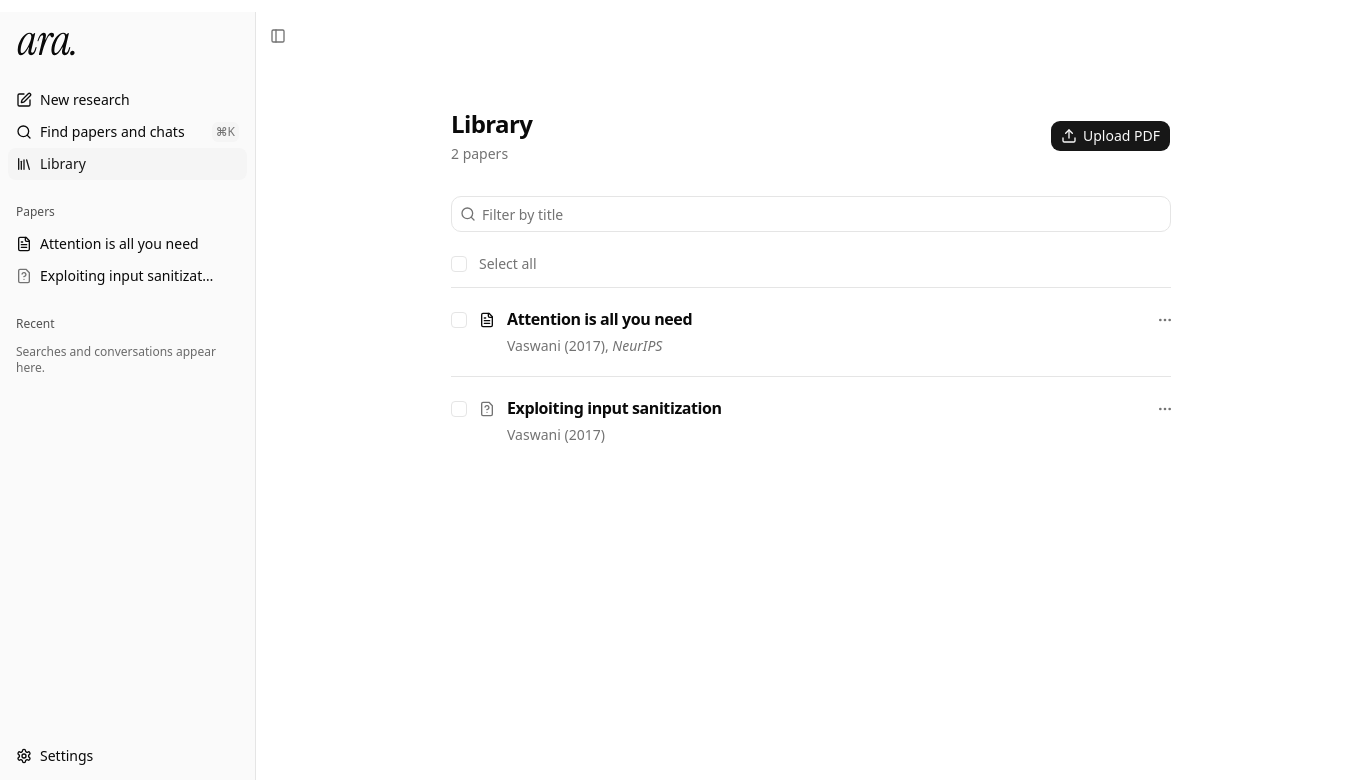
Test: Given a library row, When Look up details again is chosen, Then the lookup is queued
Click the button named "Actions for “Attention is all you need”" at (1165, 320), box 1151,306 -> 1179,334
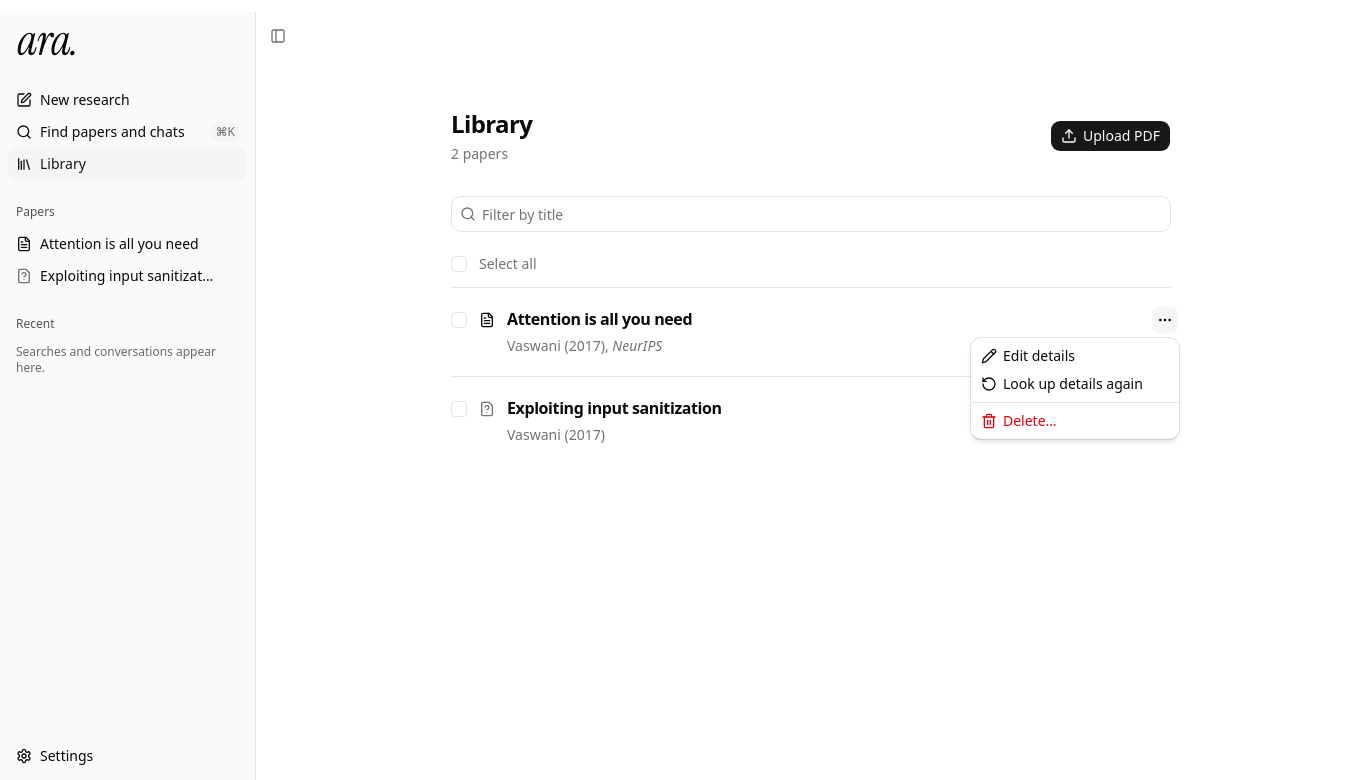
Click the menu item "Look up details again" at (1062, 384), box 981,374 -> 1143,393
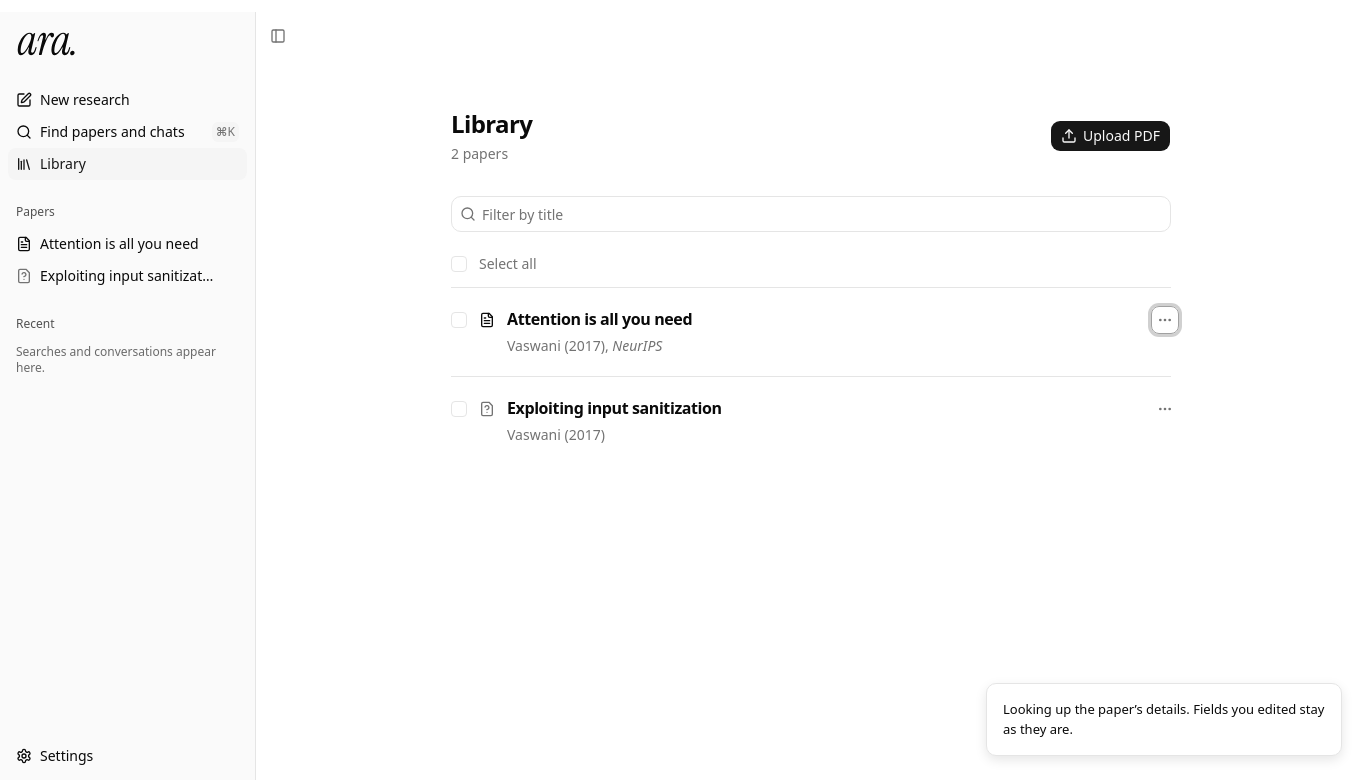
Now the text "Looking up the paper’s details. Fields you edited stay as they are." is shown, box 1003,700 -> 1325,739
